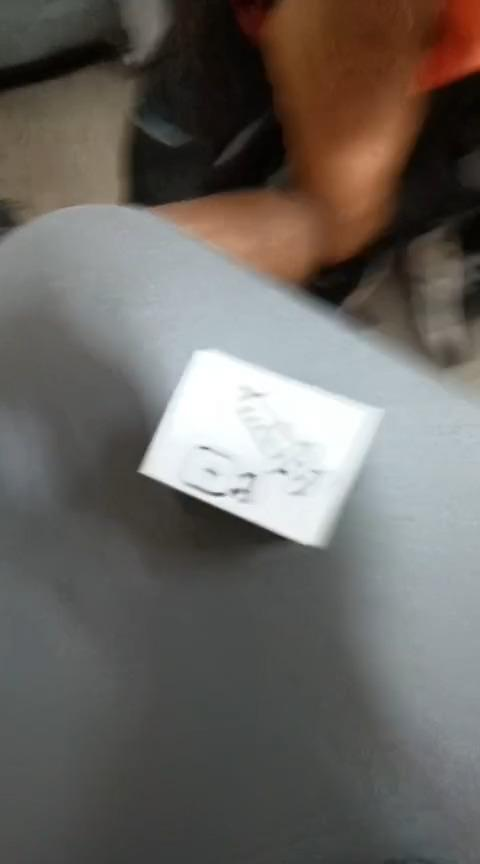antiseptic cream: (135, 346, 385, 550)
